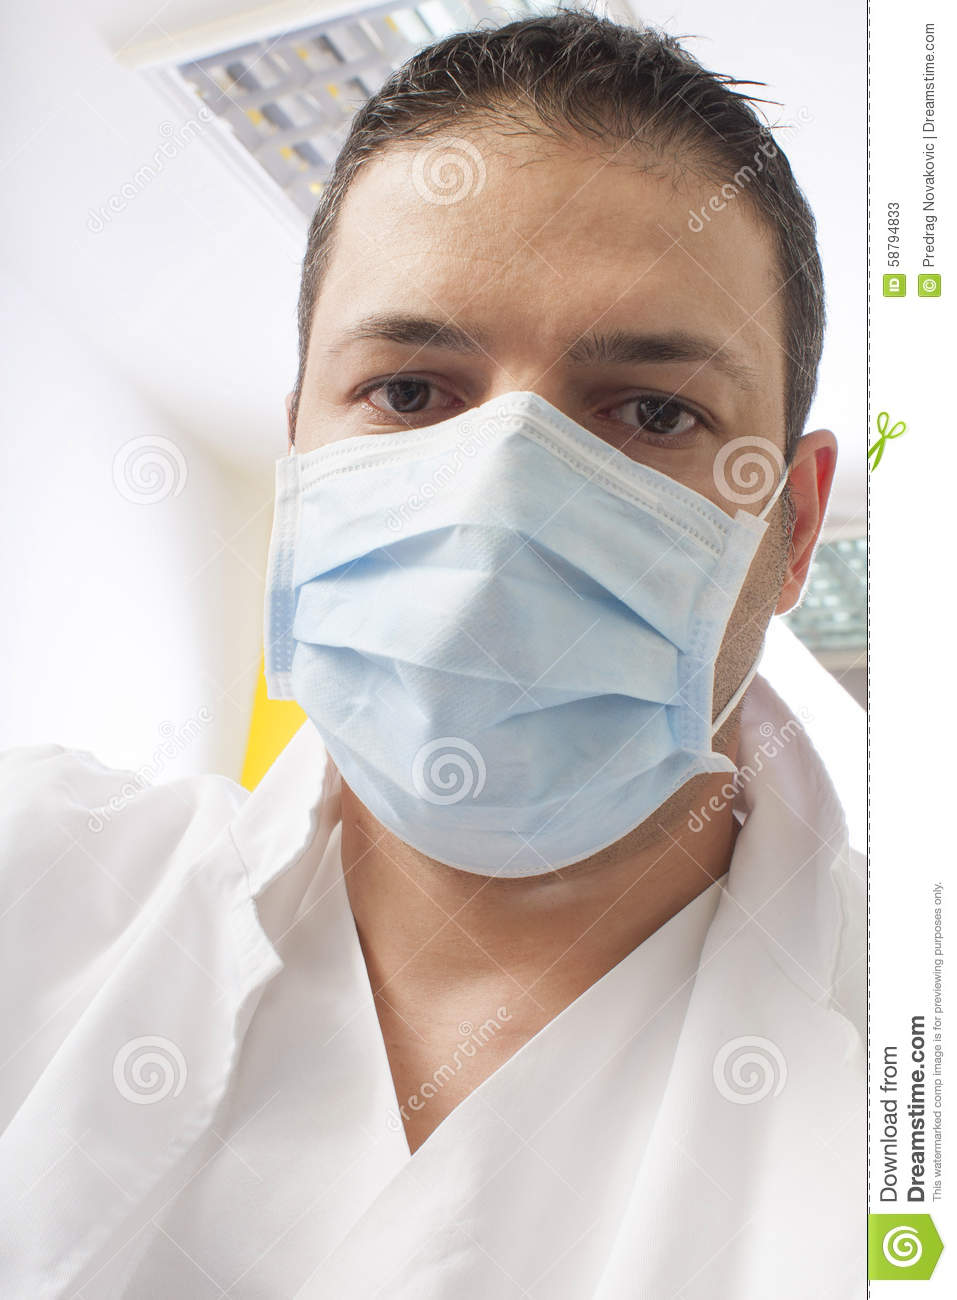mask: (240, 413, 770, 879)
